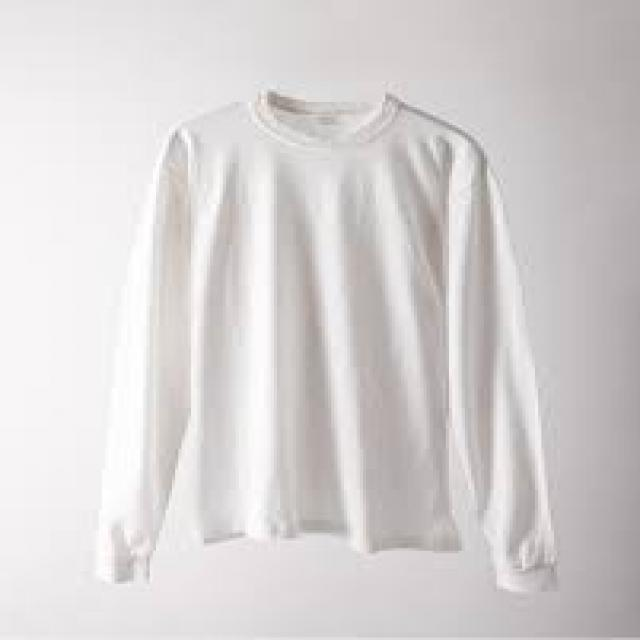plain: (89, 93, 571, 604)
